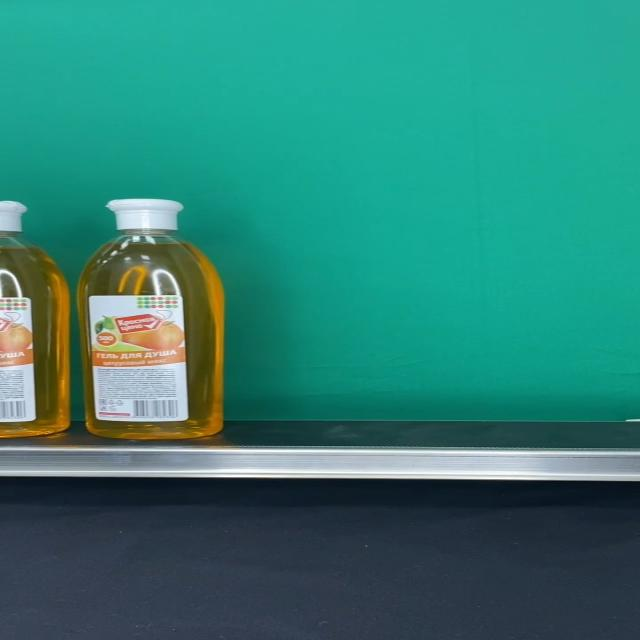Bottle: (77, 200, 226, 439)
Cap: (106, 200, 183, 232)
